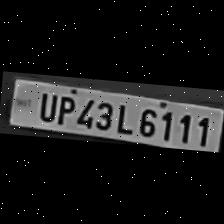1: (190, 112, 214, 148), (171, 109, 193, 145), (155, 108, 175, 141)
3: (92, 97, 114, 131)
4: (74, 94, 96, 129)
6: (134, 104, 158, 138)
L: (113, 100, 136, 134)
P: (53, 92, 75, 126)
U: (35, 90, 58, 122)
